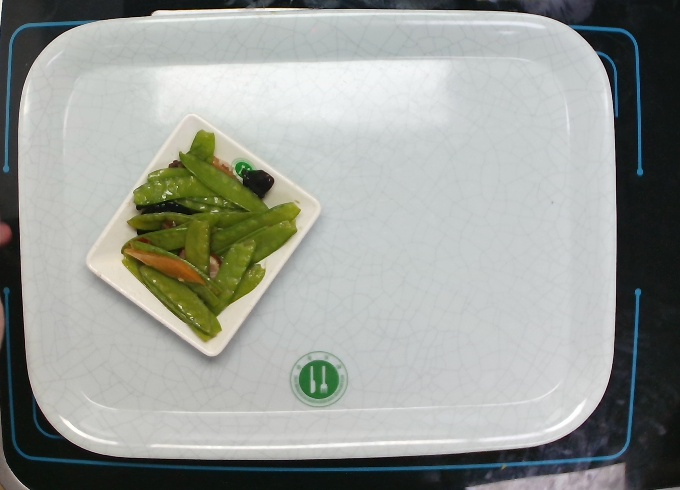WCQzf-Bai_Se_Si_Fang_Die: (83, 110, 324, 358)
